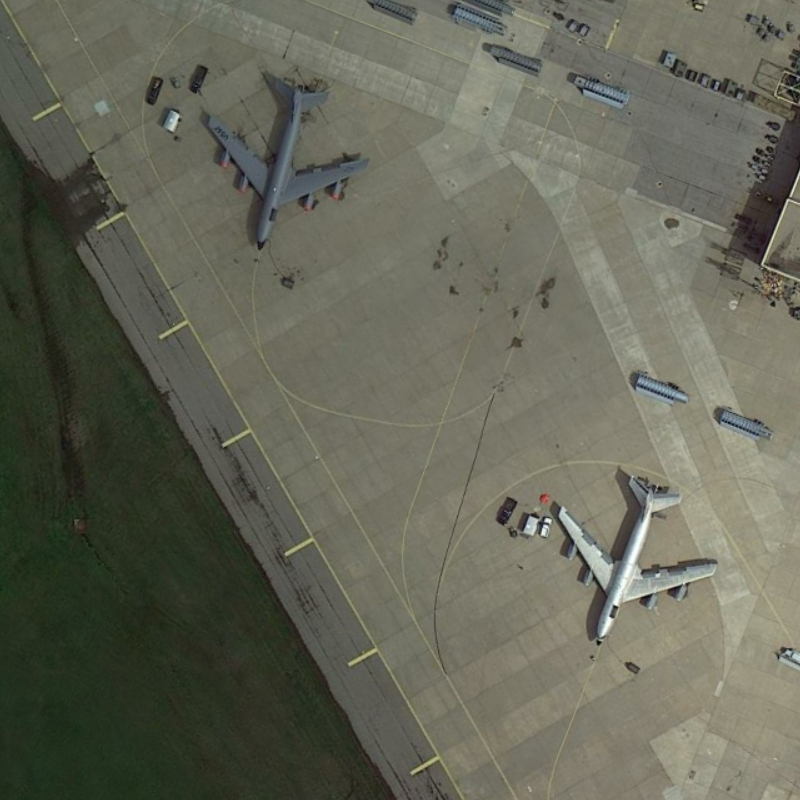A14: (196, 65, 376, 262), (543, 466, 722, 655)
